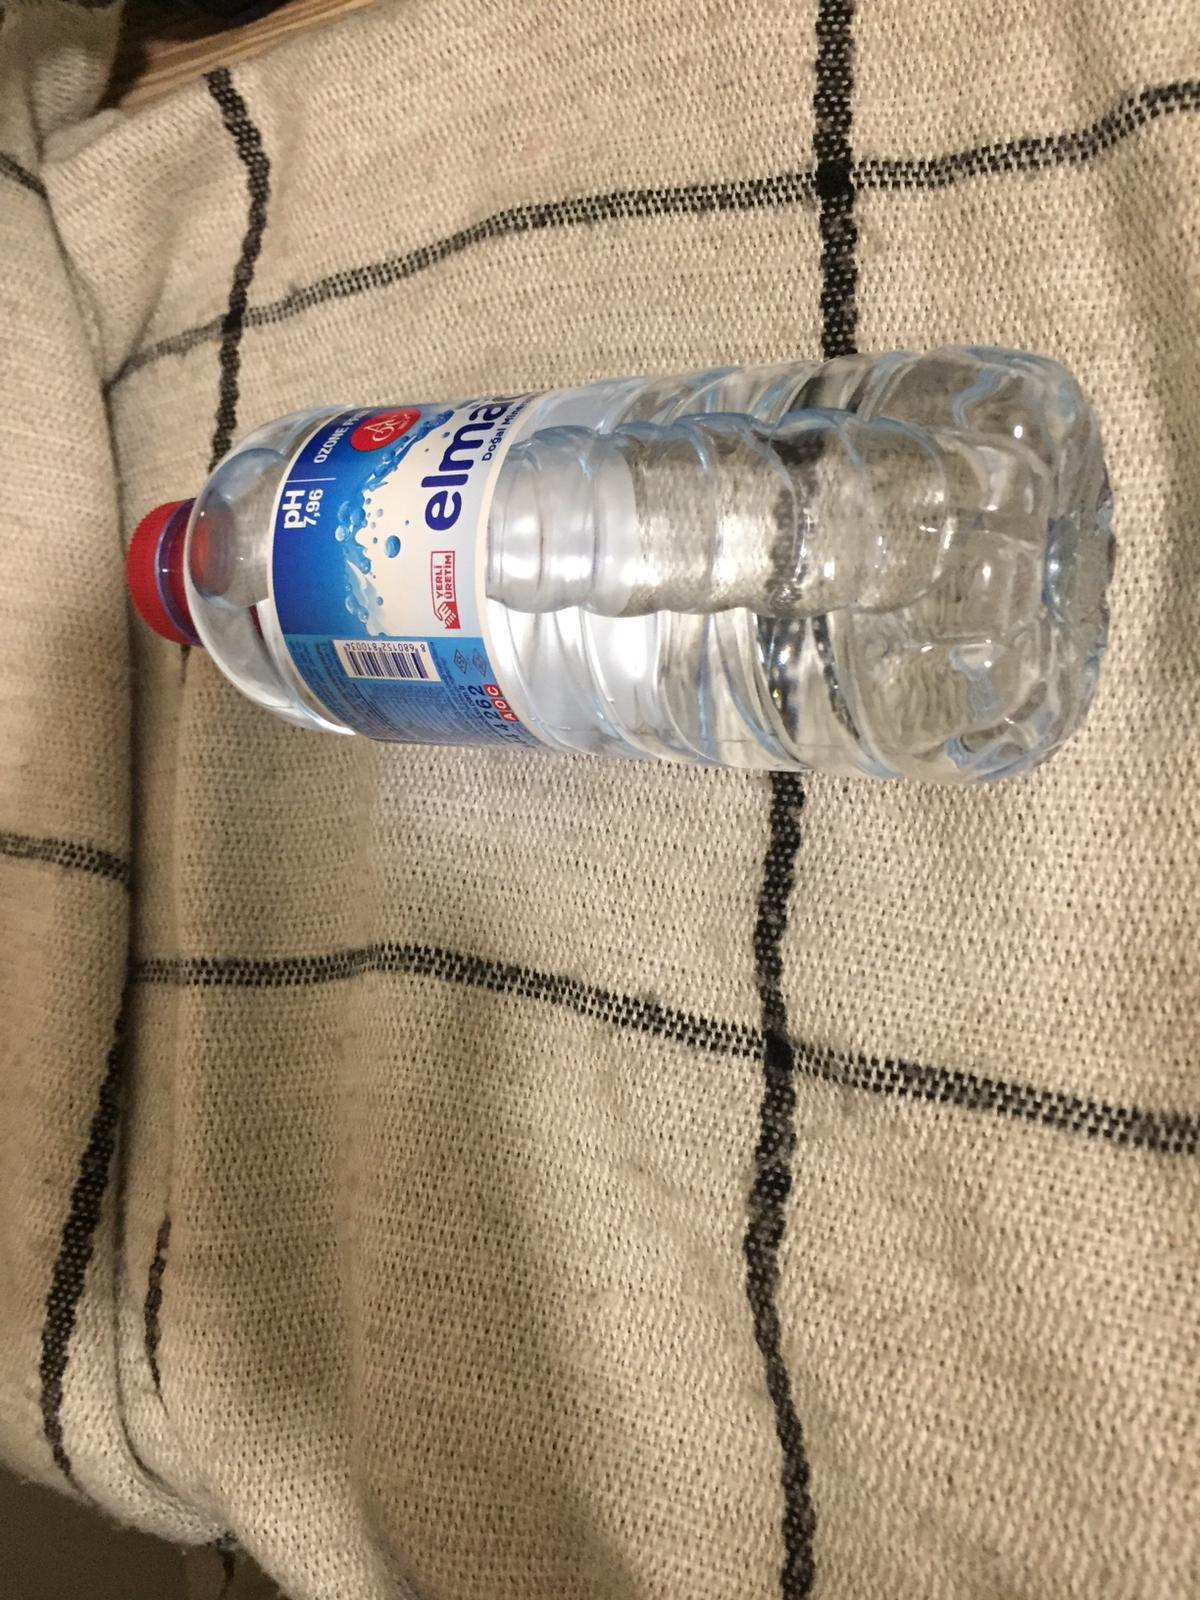bottle: (127, 338, 1119, 790)
